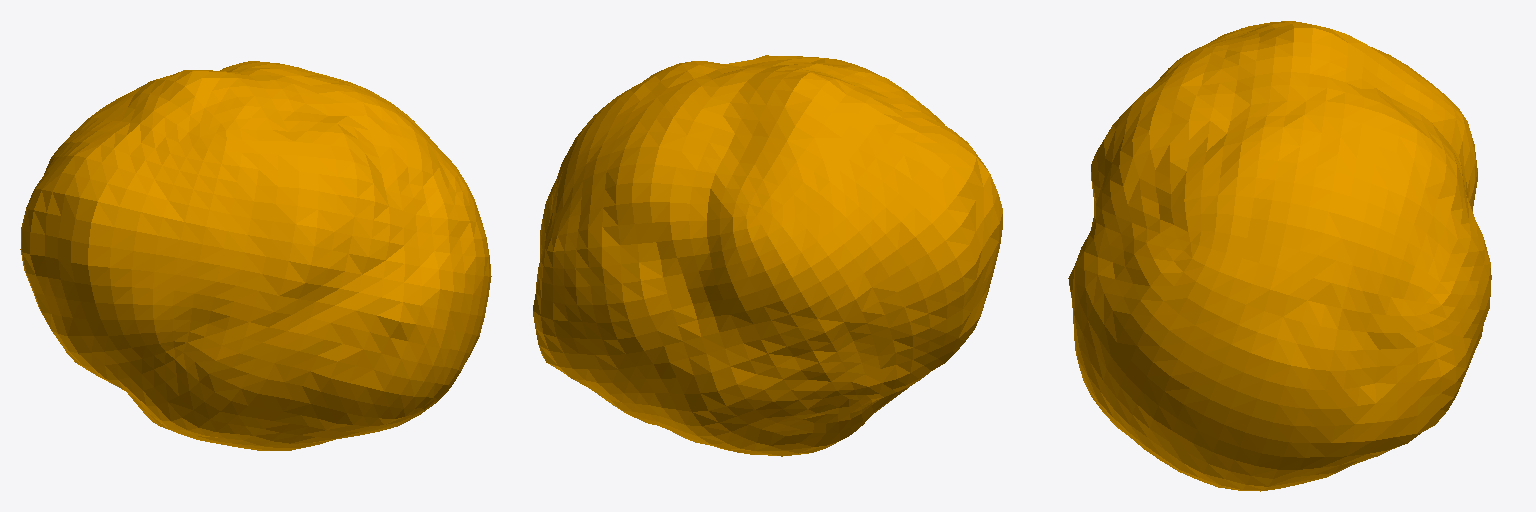
robot.urdf — rock:
<?xml version="1.0" ?>
<robot name="rock">
  <link name="rock">
    <inertial>
      <mass value="0.25"/>
      <origin rpy="0 0 0" xyz="0 0 0"/>
      <inertia ixx="0.00025" ixy="0" ixz="0" iyy="0.00025" iyz="0" izz="0.00025"/>
    </inertial>
    <collision name="rock_collision">
      <origin rpy="0 0 0" xyz="0 0 0"/>
      <geometry>
        <mesh filename="package://rocks/collision/27.stl" scale="1 1 1"/>
      </geometry>
    </collision>
    <visual name="rock_visual">
      <origin rpy="0 0 0" xyz="0 0 0"/>
      <geometry>
        <mesh filename="package://rocks/visual/27.dae" scale="1 1 1"/>
      </geometry>
    </visual>
  </link>
</robot>

--- What the picture shows (computed from the rendered views, not written in the file) ---
Views: 3 orthographic renders of the robot side by side, from view 1: azimuth 30°, elevation 25°; view 2: azimuth 150°, elevation 25°; view 3: azimuth 270°, elevation 25°.
Robot: rock — 1 links, 0 joints (none); root link rock; default pose: all joints at 0.
Links seen in each view (by area): view 1: rock; view 2: rock; view 3: rock.
Boxes of the visible links, bbox=[...] form: rock: bbox=[20, 61, 491, 450]; rock: bbox=[533, 55, 1002, 456]; rock: bbox=[1068, 21, 1491, 491].
Bounding box of the posed robot: 0.0813 × 0.066 × 0.0678 m (x, y, z).
1 mesh visuals loaded from 1 distinct referenced files (1 Collada DAE).